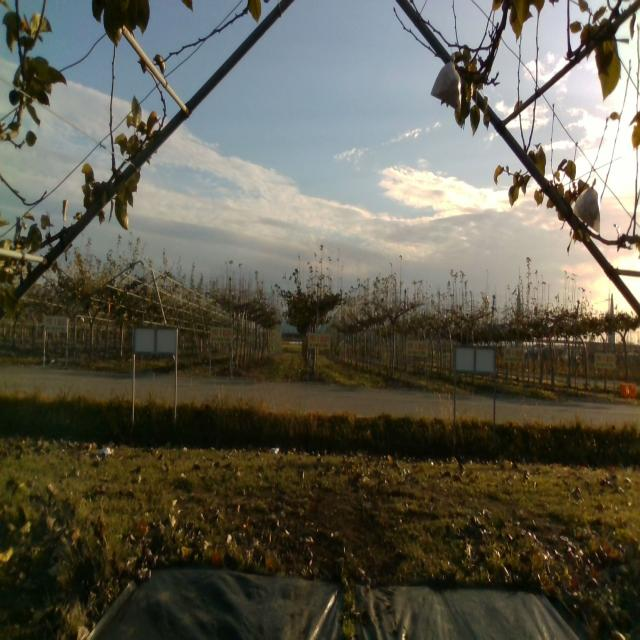pearbags: (428, 54, 459, 113), (572, 180, 605, 233)
